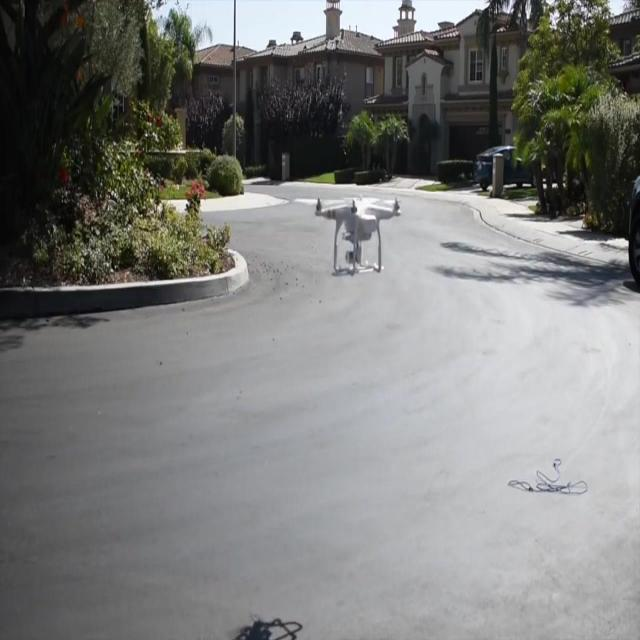UAV: (294, 196, 402, 278)
